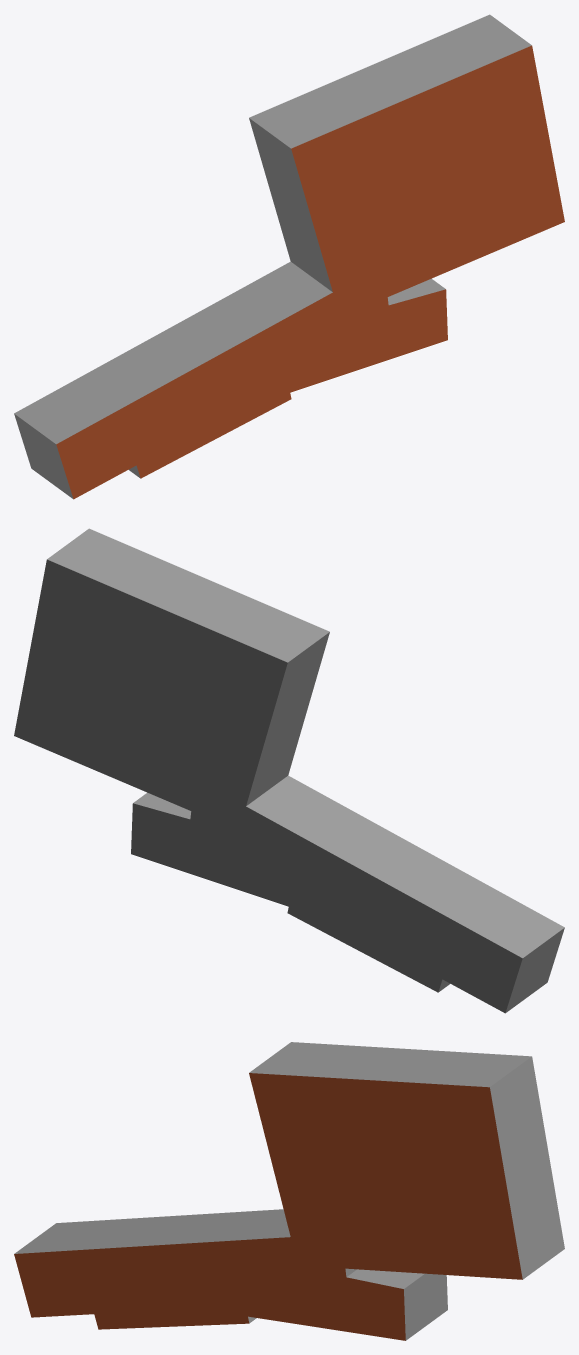
The model's file is construction_2415_assumed_A_Casa_h6m.obj.
3 renders of one model, top to bottom at view 1: azimuth 30°, elevation 25°; view 2: azimuth 150°, elevation 25°; view 3: azimuth 330°, elevation 25°, orthographic.
Visible parts, largest first — view 1: construction_2415_assumed_A_Casa; view 2: construction_2415_assumed_A_Casa; view 3: construction_2415_assumed_A_Casa.
Boxes of the visible parts, x1,y1,x2,y2 form: construction_2415_assumed_A_Casa: (14, 14, 564, 499); construction_2415_assumed_A_Casa: (14, 528, 564, 1013); construction_2415_assumed_A_Casa: (14, 1042, 564, 1340).
Bounding box in the file's own units: 41.71 × 26.81 × 6.
